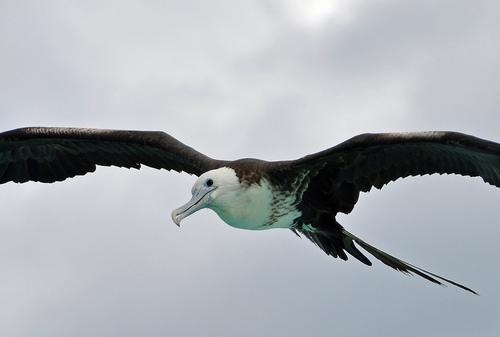bird: (2, 123, 500, 291)
